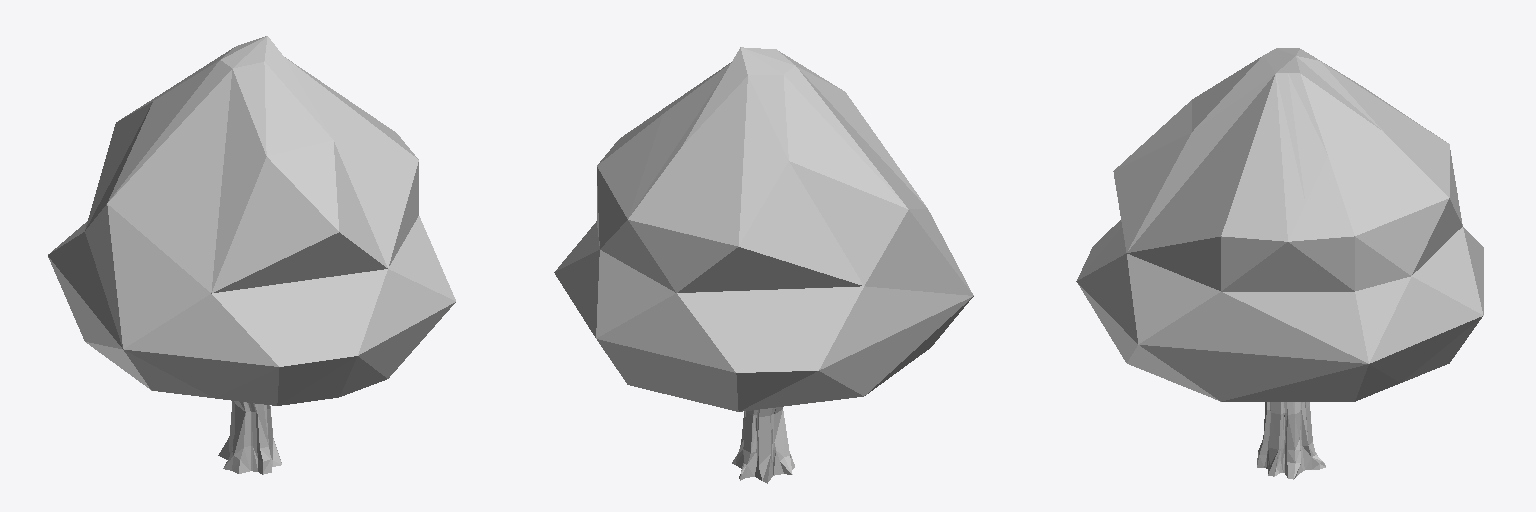
The model's file is tree_maple_02.obj.
The picture shows the model from 3 angles: view 1: azimuth 30°, elevation 25°; view 2: azimuth 150°, elevation 25°; view 3: azimuth 270°, elevation 25°; orthographic projection.
Visible parts, largest first — view 1: MapleTree_geo_02 treeLeaves_geo_010, treeTrunk_Geo_06 MapleTree_geo_02; view 2: MapleTree_geo_02 treeLeaves_geo_010, treeTrunk_Geo_06 MapleTree_geo_02; view 3: MapleTree_geo_02 treeLeaves_geo_010, treeTrunk_Geo_06 MapleTree_geo_02.
Part boxes in pixels (x1,y1,x2,y2): MapleTree_geo_02 treeLeaves_geo_010: (48, 36, 455, 405); treeTrunk_Geo_06 MapleTree_geo_02: (218, 401, 281, 474); MapleTree_geo_02 treeLeaves_geo_010: (554, 47, 973, 411); treeTrunk_Geo_06 MapleTree_geo_02: (732, 407, 794, 483); MapleTree_geo_02 treeLeaves_geo_010: (1076, 48, 1483, 401); treeTrunk_Geo_06 MapleTree_geo_02: (1257, 402, 1325, 479).
Size of the model in its own units: 12.23 by 14.47 by 12.73.